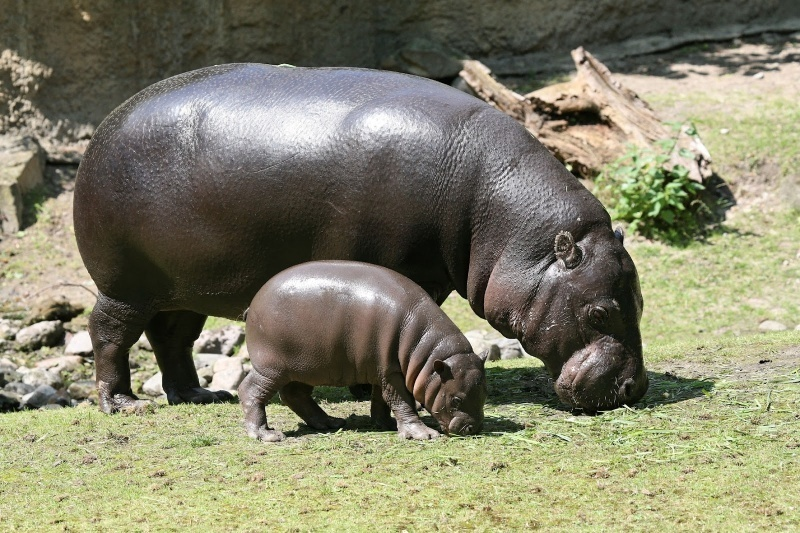hipopotamo: (78, 60, 656, 427), (219, 256, 493, 443)
